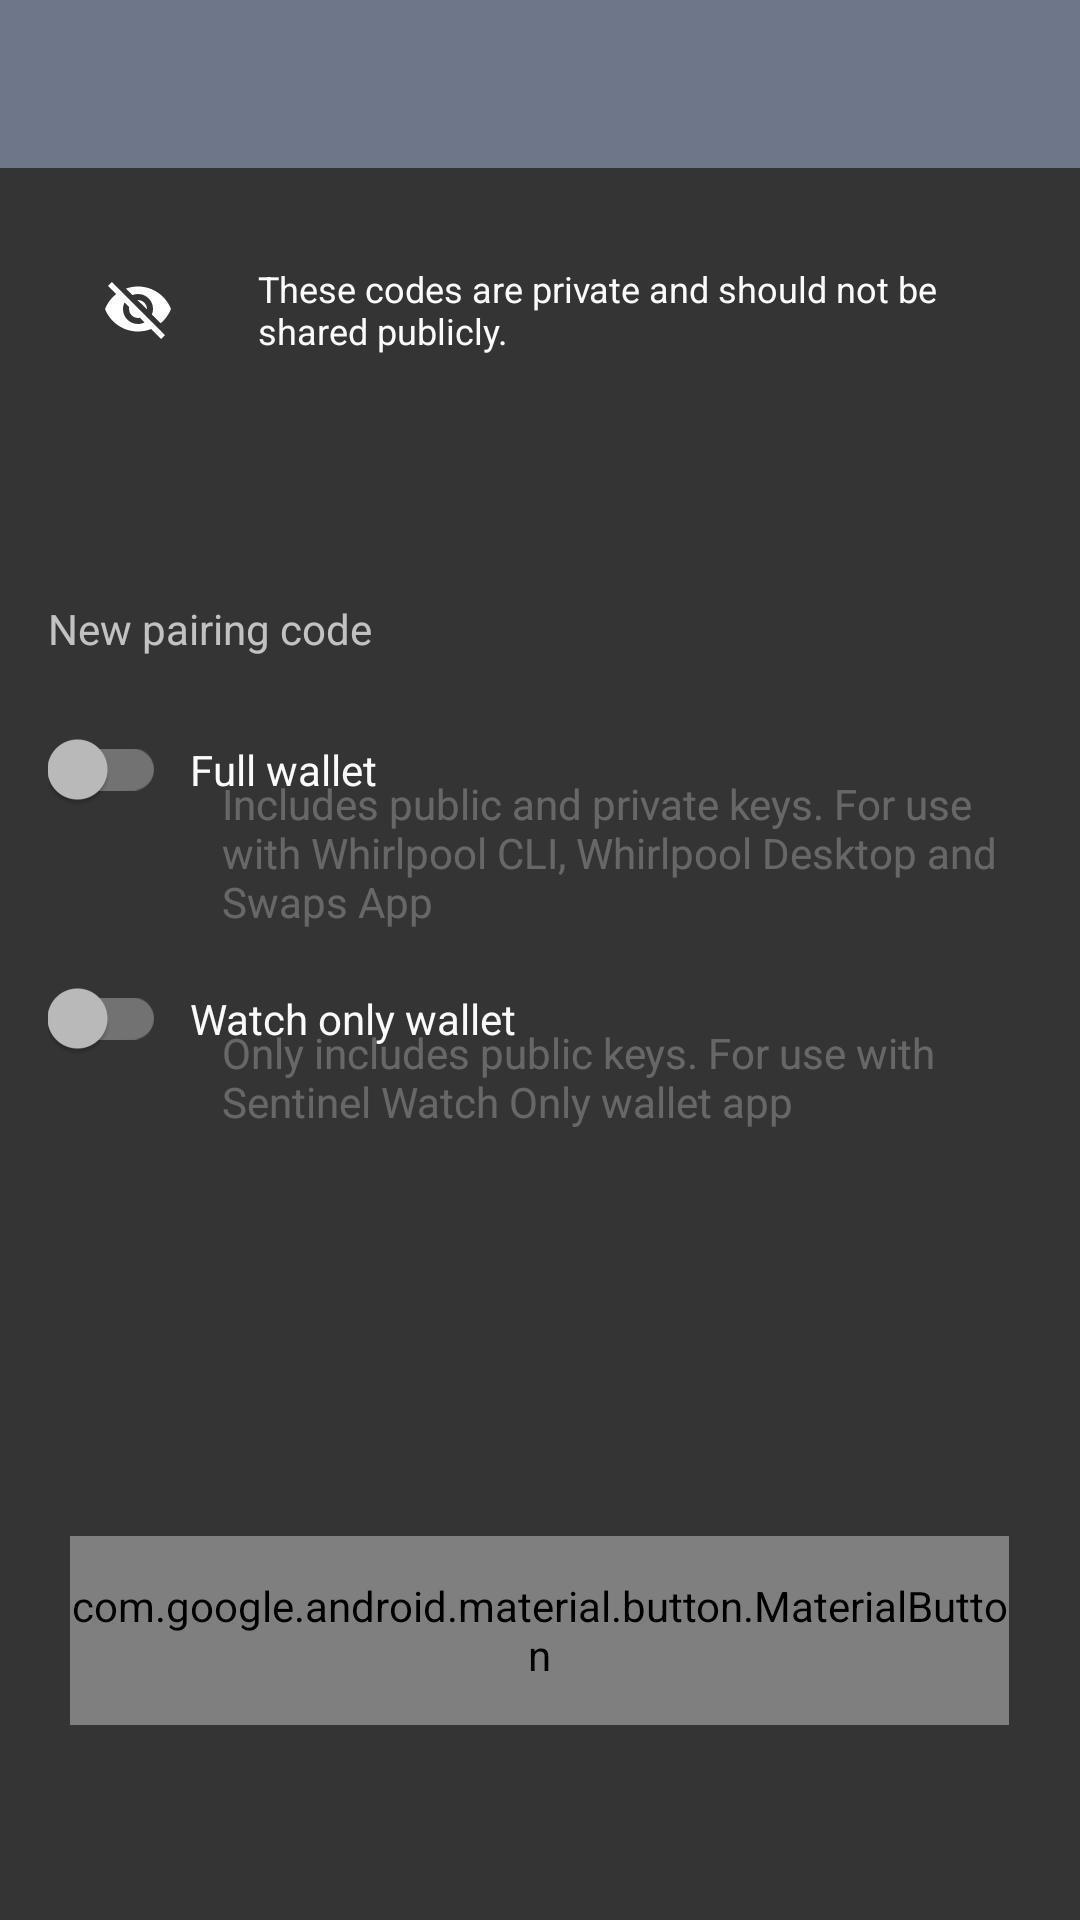

Icons on this 1080px×1920px Android screen, each with its box as (x1, y1, x2, y2):
eye off: (105, 282, 171, 339)
